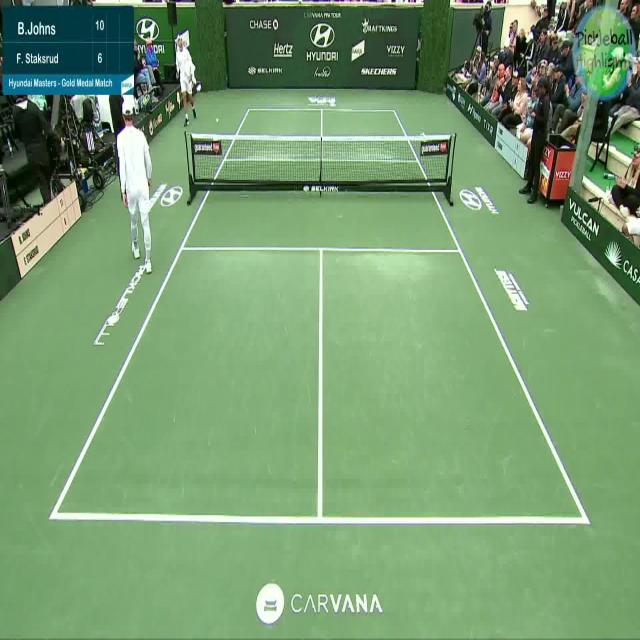ball: (212, 112, 225, 132)
